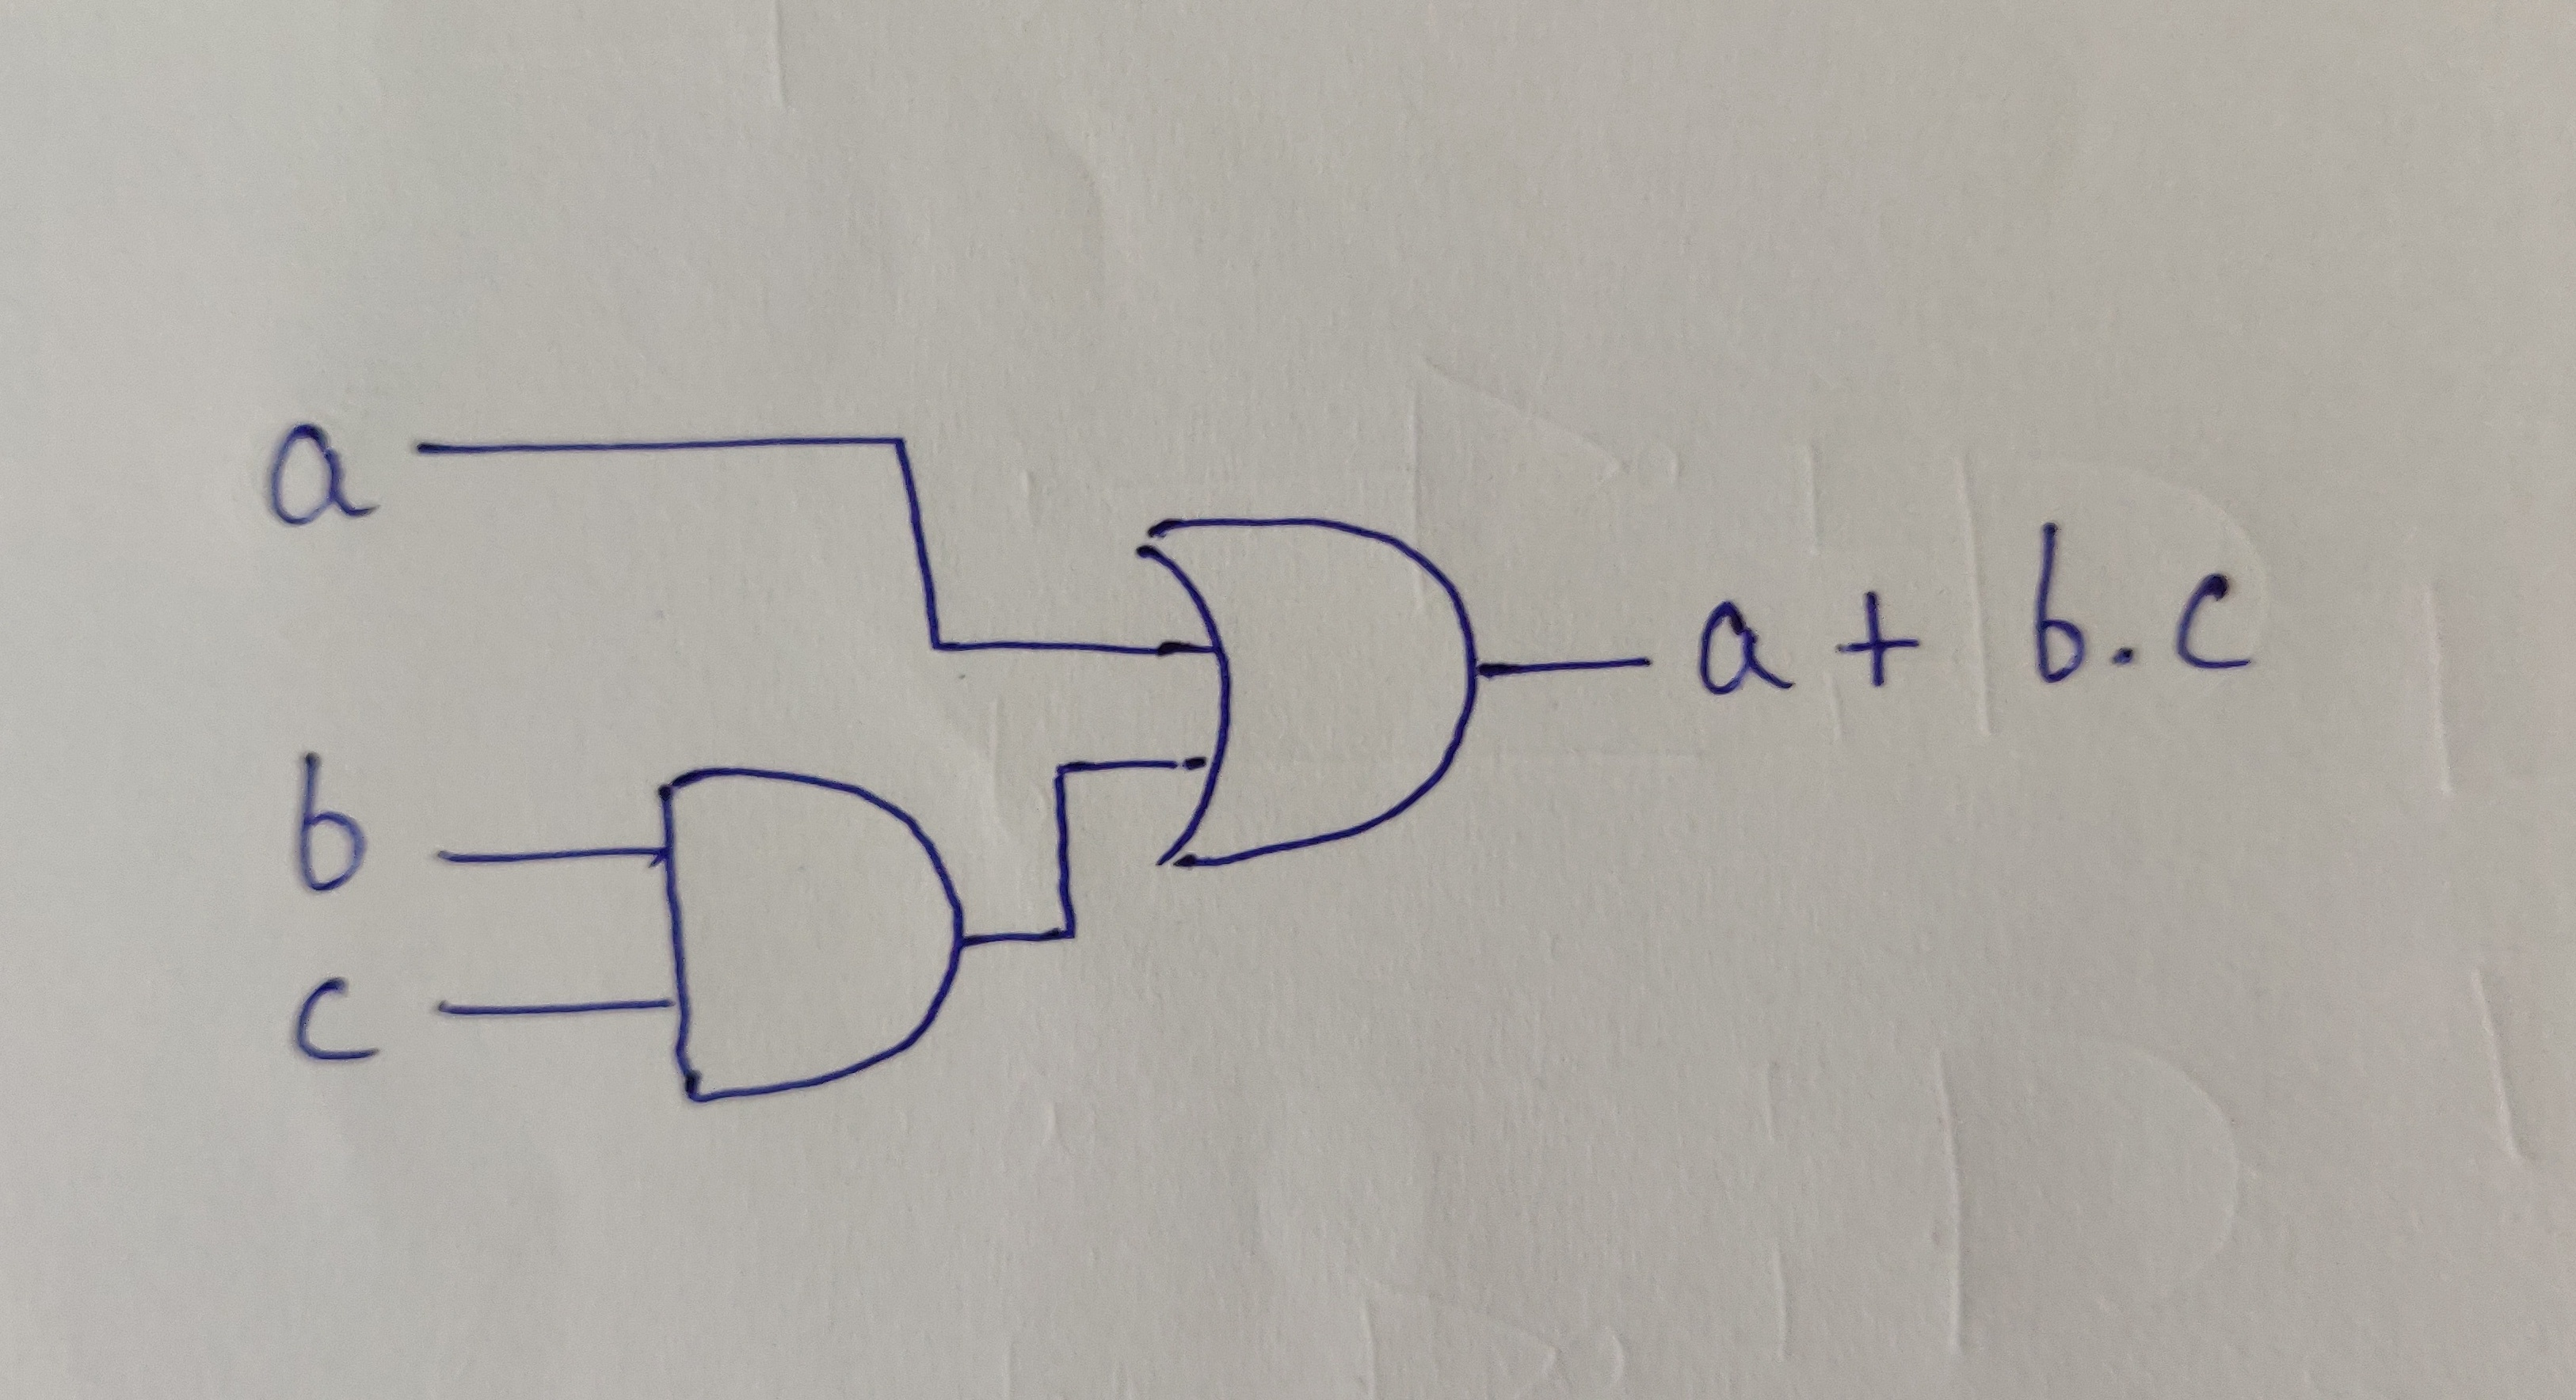and: (616, 719, 981, 1116)
or: (1095, 443, 1548, 912)
